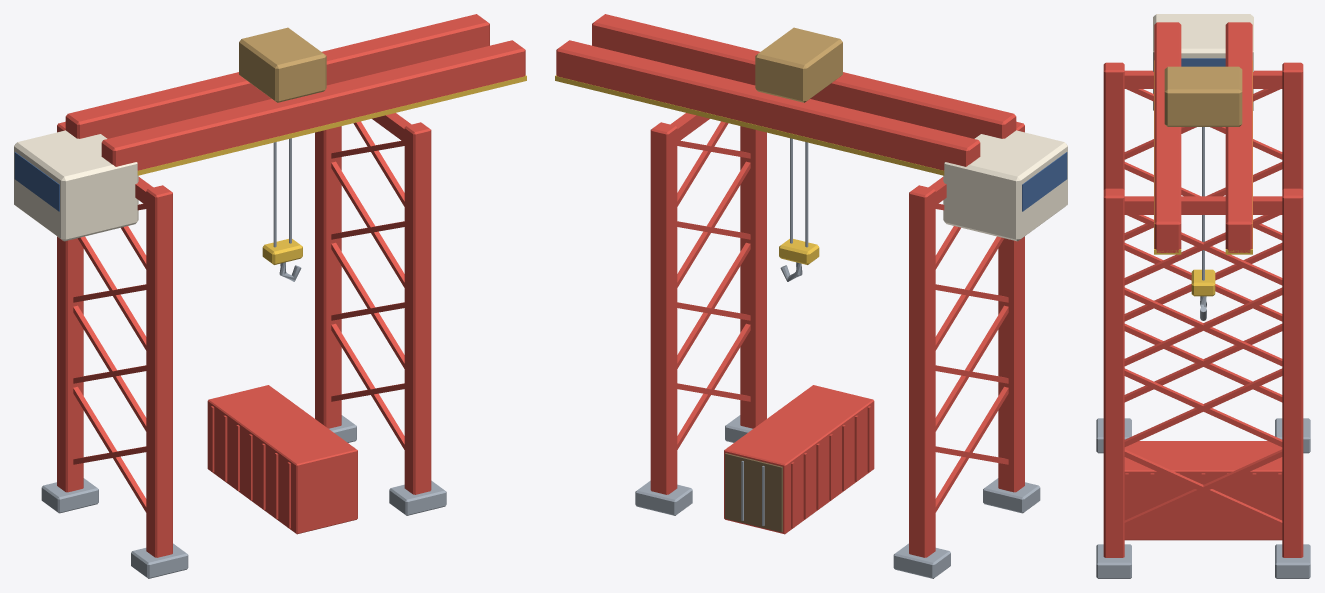
The model's file is bld_d1_b.glb.
3 renders of one model, left to right at view 1: azimuth 30°, elevation 25°; view 2: azimuth 150°, elevation 25°; view 3: azimuth 270°, elevation 25°, orthographic.
Visible parts, largest first — view 1: bld_d1_b; view 2: bld_d1_b; view 3: bld_d1_b.
Boxes of the visible parts, x1=… form: bld_d1_b: x1=14, y1=14, x2=526, y2=578; bld_d1_b: x1=555, y1=14, x2=1067, y2=578; bld_d1_b: x1=1096, y1=14, x2=1310, y2=578.
Size of the model in its own units: 18.02 by 16.6 by 7.2.
